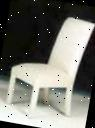Silla: (2, 9, 94, 127)
